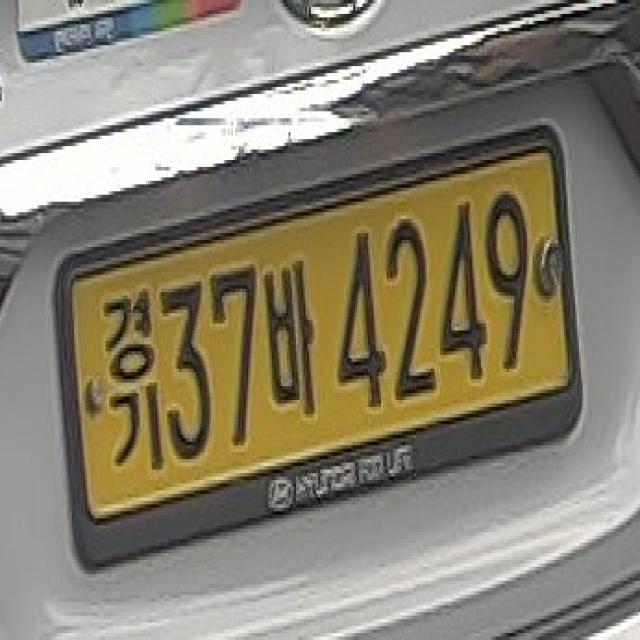plat: (54, 120, 583, 564)
